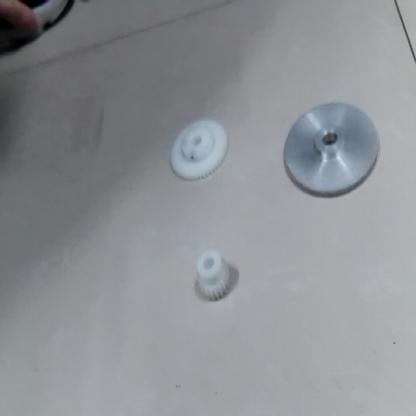FOD: (280, 98, 382, 204), (168, 114, 236, 189), (186, 251, 235, 308)
